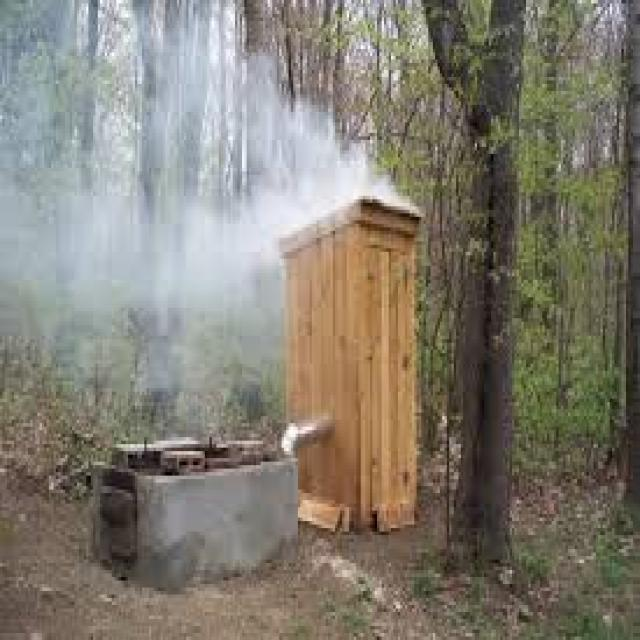Smoke: (0, 0, 421, 441)
